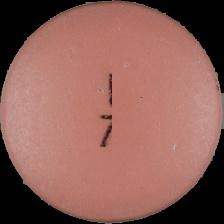42254-036: (0, 0, 224, 224)
